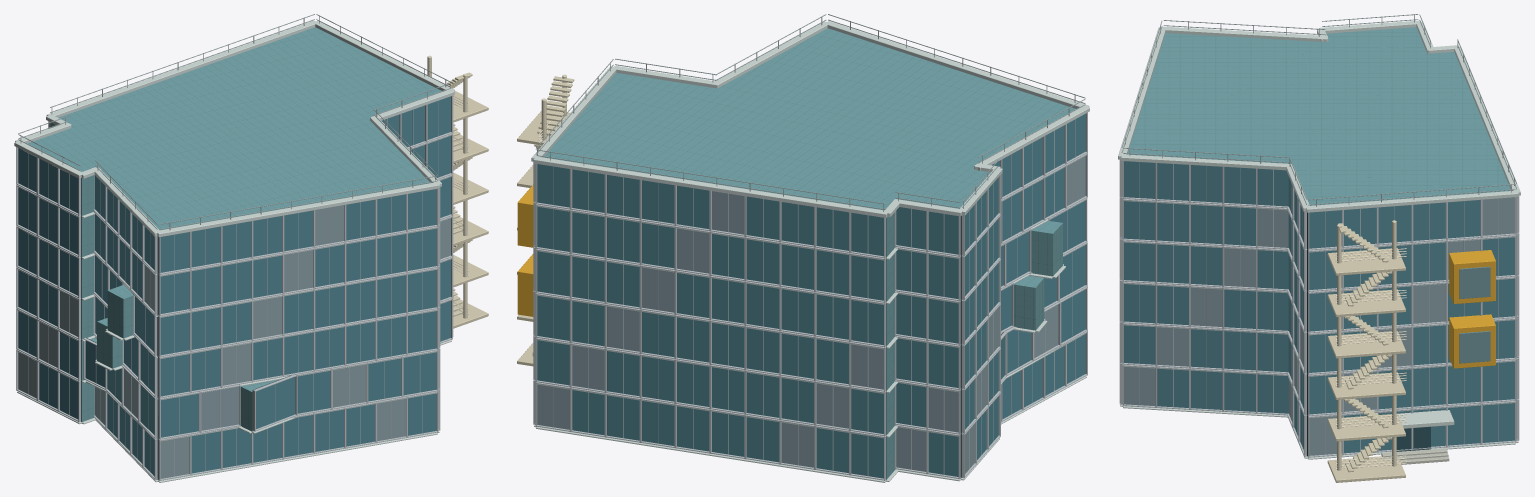
Rendered from gemi.glb.
The picture shows the model from 3 angles, left to right: view 1: azimuth 30°, elevation 25°; view 2: azimuth 150°, elevation 25°; view 3: azimuth 270°, elevation 25°; orthographic projection. The views are drawn at different scales.
Parts seen in each view (by area): view 1: gemi_glass_588f9d, gemi_body_79aeb4, gemi_frames_c2cbd0, gemi_glass_90a8b0, gemi_stone_d3e0dd, gemi_stone_dcd5bb, gemi_frames_9aa8a9, gemi_cylinder_e7e1c9, gemi_stone_ddd7bd, gemi, gemi_frames_a8b2b0; view 2: gemi_glass_588f9d, gemi_body_79aeb4, gemi_frames_c2cbd0, gemi_glass_90a8b0, gemi_stone_d3e0dd, gemi_frames_9aa8a9, gemi_stone_e4ae36, gemi_stone_dcd5bb, gemi_stone_ddd7bd, gemi, gemi_frames_a8b2b0; view 3: gemi_glass_588f9d, gemi_body_79aeb4, gemi_frames_c2cbd0, gemi_stone_d3e0dd, gemi_glass_90a8b0, gemi_stone_dcd5bb, gemi_stone_e4ae36, gemi_stone_ddd7bd, gemi_frames_9aa8a9, gemi_glass_739a9f, gemi_stone_ece6d1, gemi_cylinder_e7e1c9 (+3 smaller).
Boxes of the visible parts, x1,y1,x2,y2 form: gemi_glass_588f9d: (18,96,450,476); gemi_body_79aeb4: (27,27,442,480); gemi_frames_c2cbd0: (16,96,453,480); gemi_glass_90a8b0: (18,205,450,478); gemi_stone_d3e0dd: (14,20,454,482); gemi_stone_dcd5bb: (453,91,488,328); gemi_frames_9aa8a9: (18,14,451,229); gemi_cylinder_e7e1c9: (427,55,467,318); gemi_stone_ddd7bd: (446,72,472,316); gemi: (50,123,291,479); gemi_frames_a8b2b0: (20,15,446,230); gemi_glass_588f9d: (537,114,1085,478); gemi_body_79aeb4: (543,28,1075,480); gemi_frames_c2cbd0: (533,112,1087,480); gemi_glass_90a8b0: (537,156,1085,473); gemi_stone_d3e0dd: (531,21,1089,482); gemi_frames_9aa8a9: (535,14,1085,209); gemi_stone_e4ae36: (517,184,533,316); gemi_stone_dcd5bb: (517,110,569,366); gemi_stone_ddd7bd: (534,76,574,149); gemi: (886,216,1006,478); gemi_frames_a8b2b0: (537,16,1075,211); gemi_glass_588f9d: (1124,161,1514,453); gemi_body_79aeb4: (1127,27,1511,456); gemi_frames_c2cbd0: (1119,159,1519,457); gemi_stone_d3e0dd: (1118,20,1520,459); gemi_glass_90a8b0: (1124,197,1514,455); gemi_stone_dcd5bb: (1327,248,1405,482); gemi_stone_e4ae36: (1449,250,1495,368); gemi_stone_ddd7bd: (1337,223,1392,472); gemi_frames_9aa8a9: (1121,14,1516,205); gemi_glass_739a9f: (1459,266,1490,363); gemi_stone_ece6d1: (1335,248,1406,468); gemi_cylinder_e7e1c9: (1337,220,1396,470).
Bounding box in the file's own units: 39.56 × 22.68 × 31.71.
Materials: 16 (1 with a texture image).
